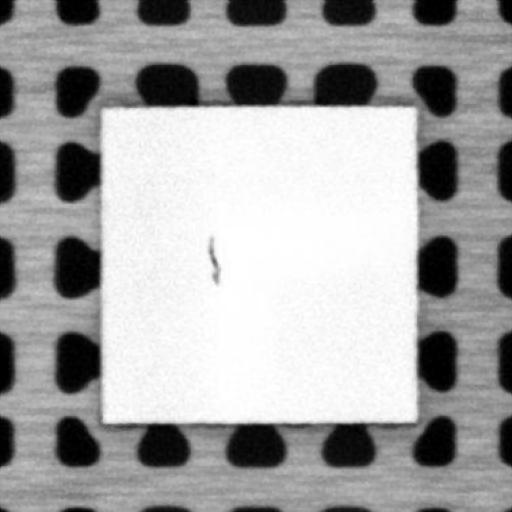DIE_INK: (207, 232, 222, 288)
